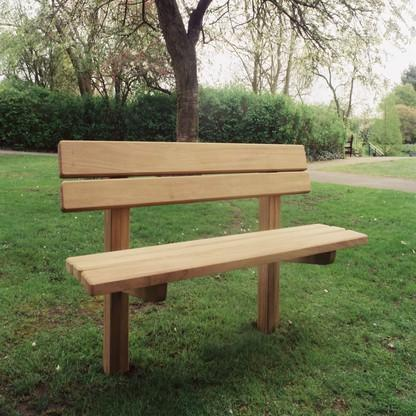obstacle: (43, 124, 376, 385)
